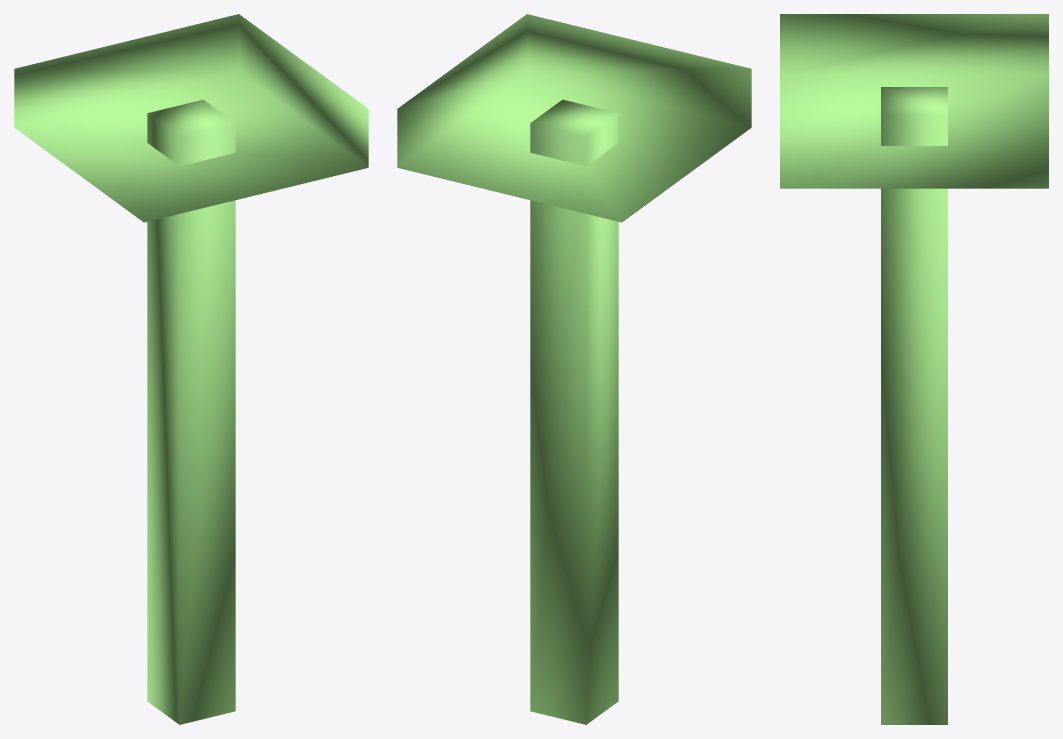
Rendered from placeholder-melee.gltf.
The picture shows the model from 3 angles, left to right: view 1: azimuth 30°, elevation 25°; view 2: azimuth 150°, elevation 25°; view 3: azimuth 270°, elevation 25°; orthographic projection. The views are drawn at different scales.
Parts seen in each view (by area): view 1: PlaceholderMelee; view 2: PlaceholderMelee; view 3: PlaceholderMelee.
Boxes of the visible parts, left/top/right/bottom form: PlaceholderMelee: left=14, top=14, right=368, bottom=724; PlaceholderMelee: left=397, top=14, right=751, bottom=724; PlaceholderMelee: left=780, top=14, right=1048, bottom=724.
Bounding box in the file's own units: 0.8 × 2.1 × 0.8.
